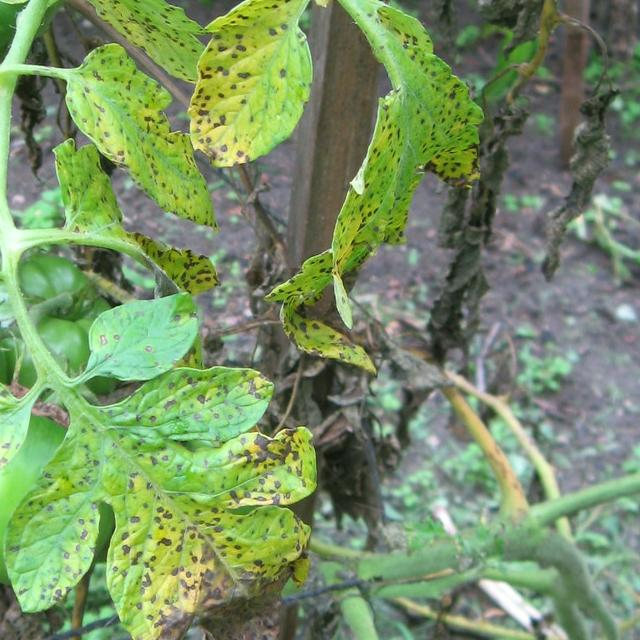Tomato Septoria leaf spot: (20, 343, 333, 640), (264, 0, 520, 329), (48, 36, 222, 249), (184, 0, 337, 170), (0, 378, 34, 511)
